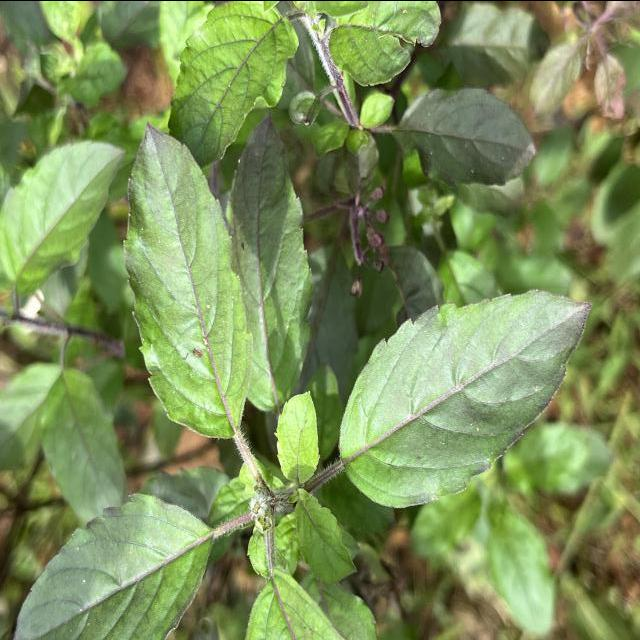Ocimum tenuiflorum: (338, 284, 595, 510), (122, 118, 255, 440)
